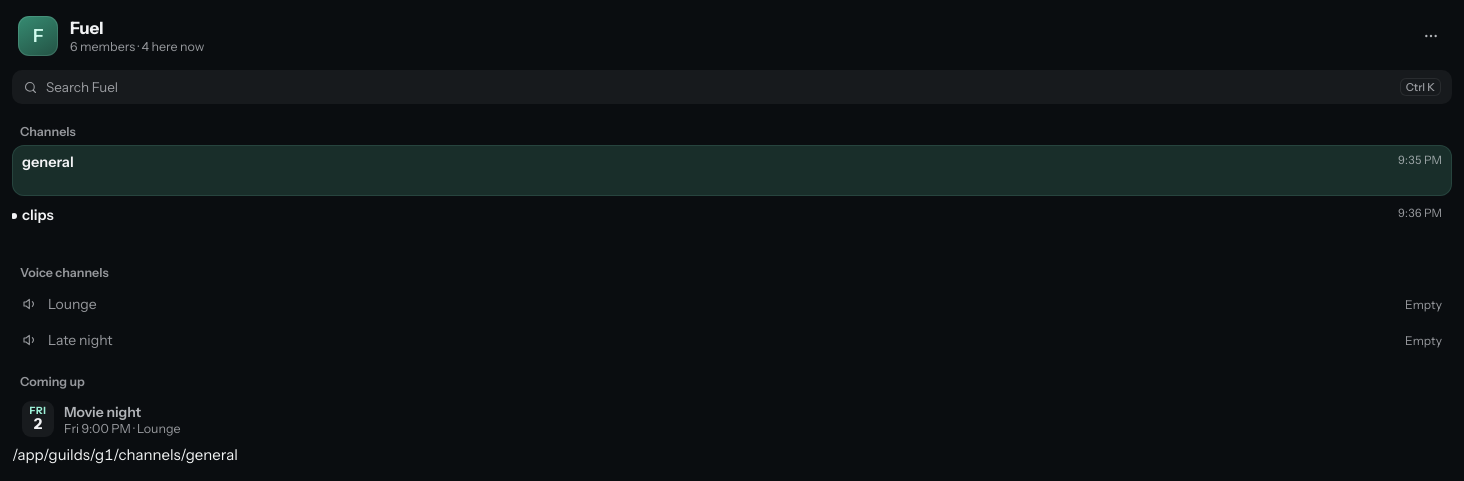
Test: Coming up in the pane › opens the server’s Events page for an event (there is no event sheet yet)
Click the link with test id "ix-event-row" at (101, 419), box x1=22 y1=401 x2=181 y2=437
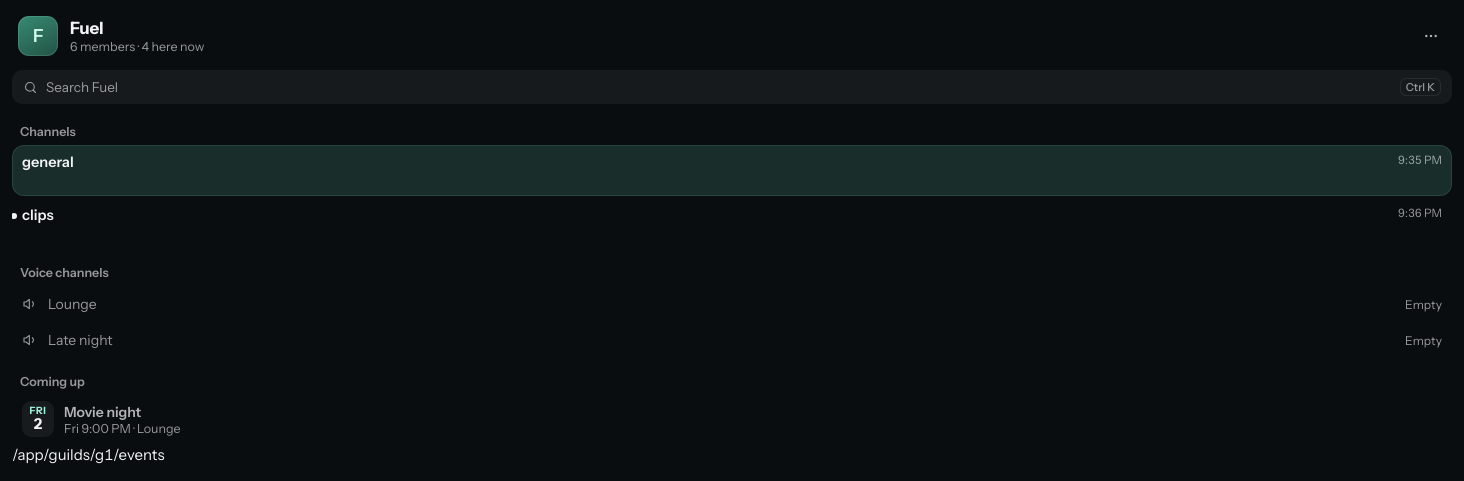
Expected: the text with test id "where" reads "/app/guilds/g1/events", x1=12 y1=445 x2=164 y2=464
